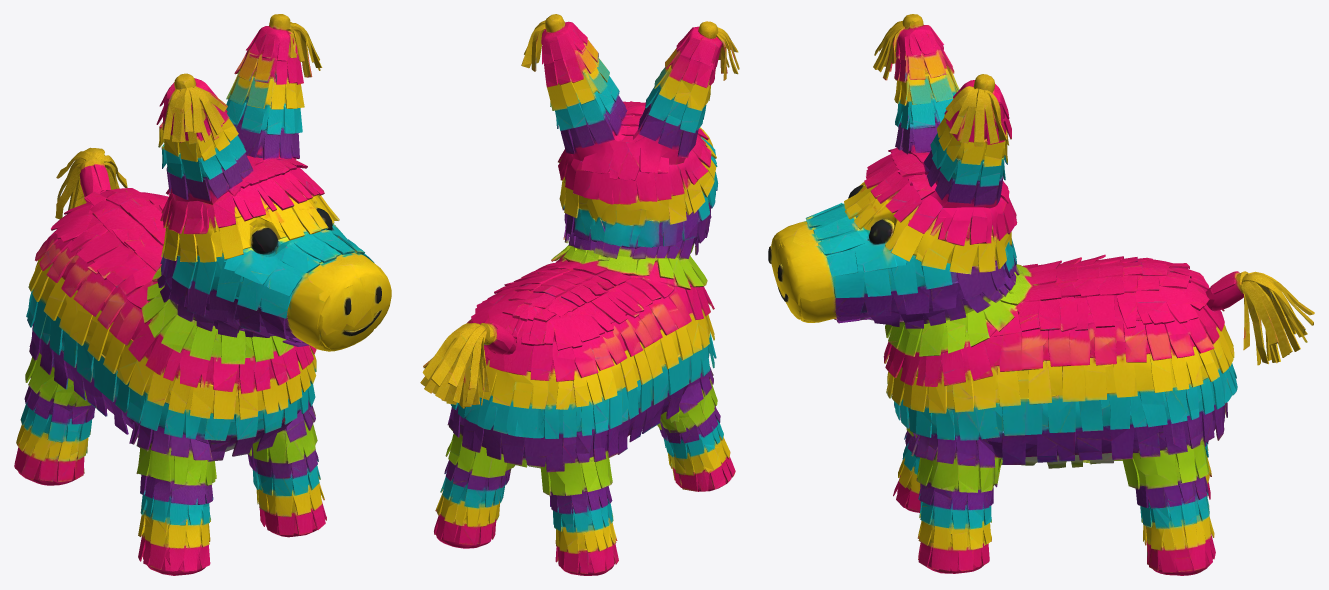
File: pinata.glb
3 views of the same model, side by side, from view 1: azimuth 30°, elevation 25°; view 2: azimuth 150°, elevation 25°; view 3: azimuth 270°, elevation 25° (orthographic). The views are drawn at different scales.
Bounding box in the file's own units: 0.7859 × 1.89 × 1.9.
1 material, 1 textured.
